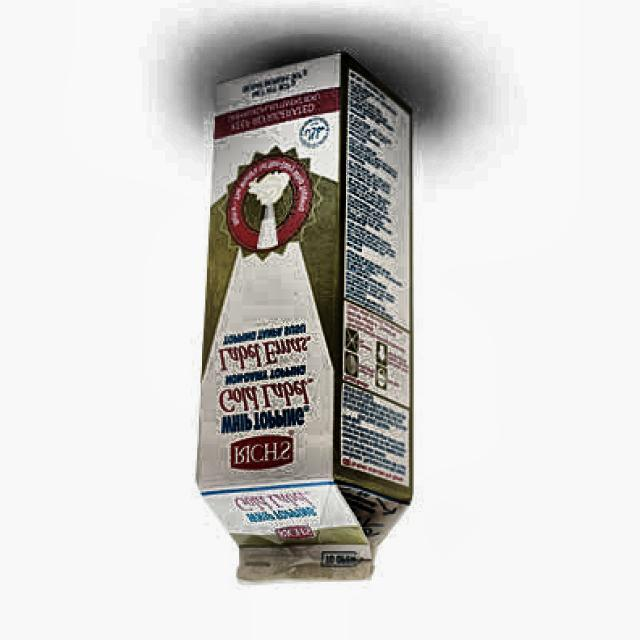cardboard: (194, 53, 416, 585)
